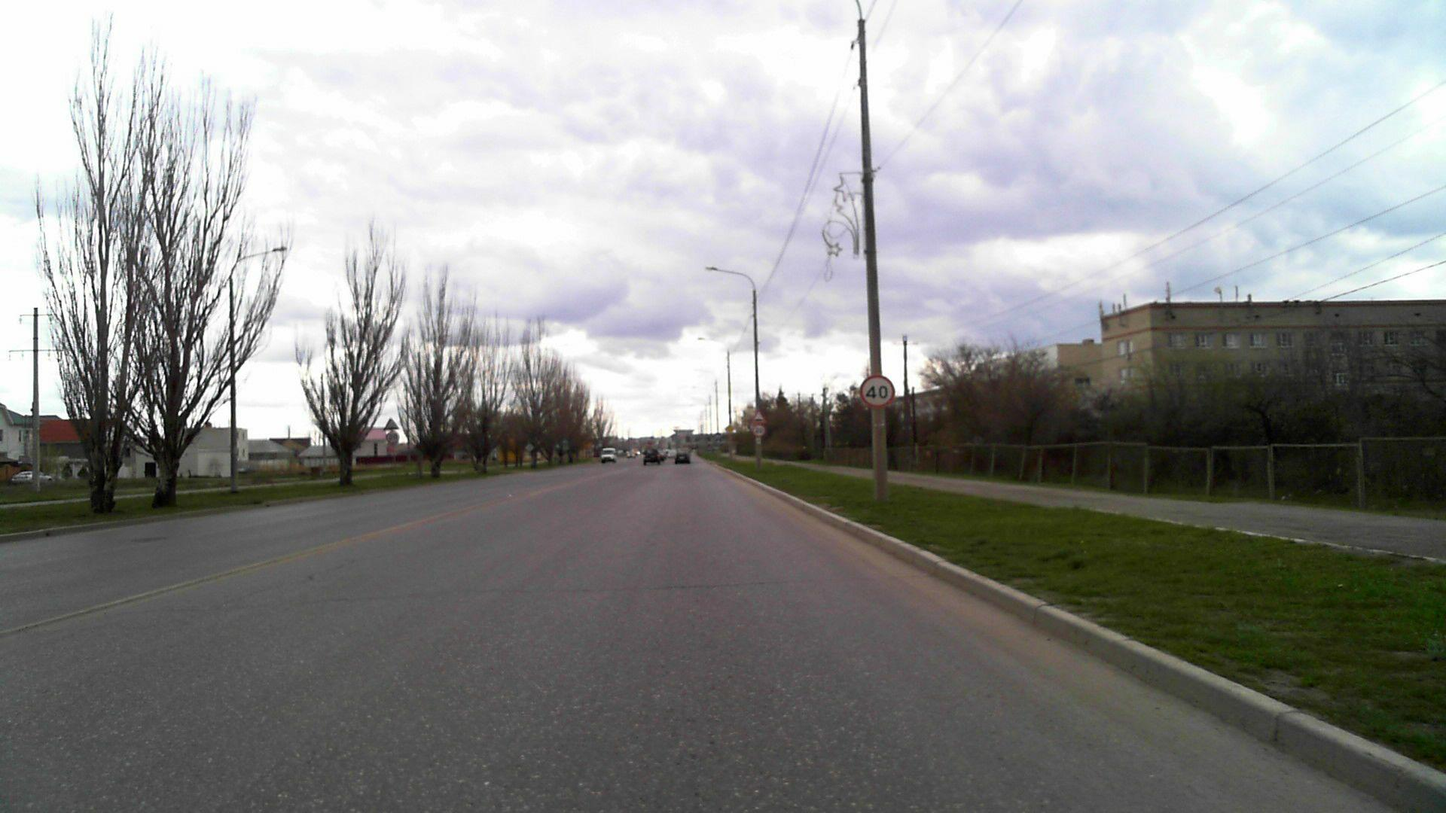road_sign: (859, 375, 895, 410)
